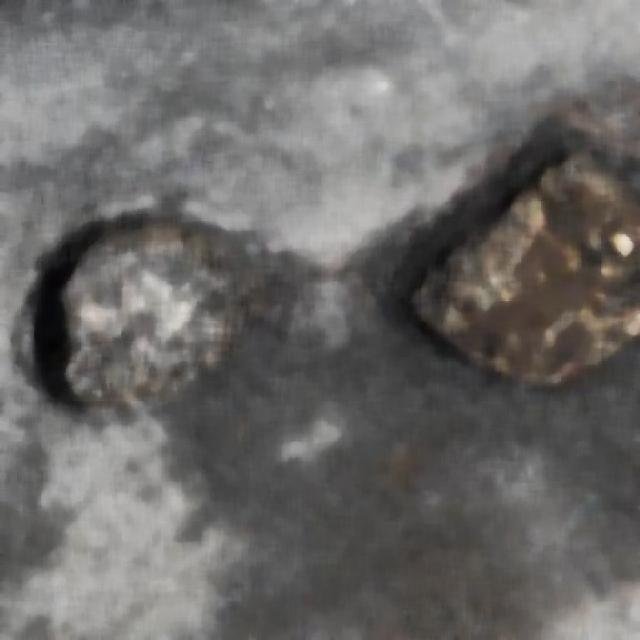Pothole: (376, 120, 639, 382), (29, 212, 237, 406)
